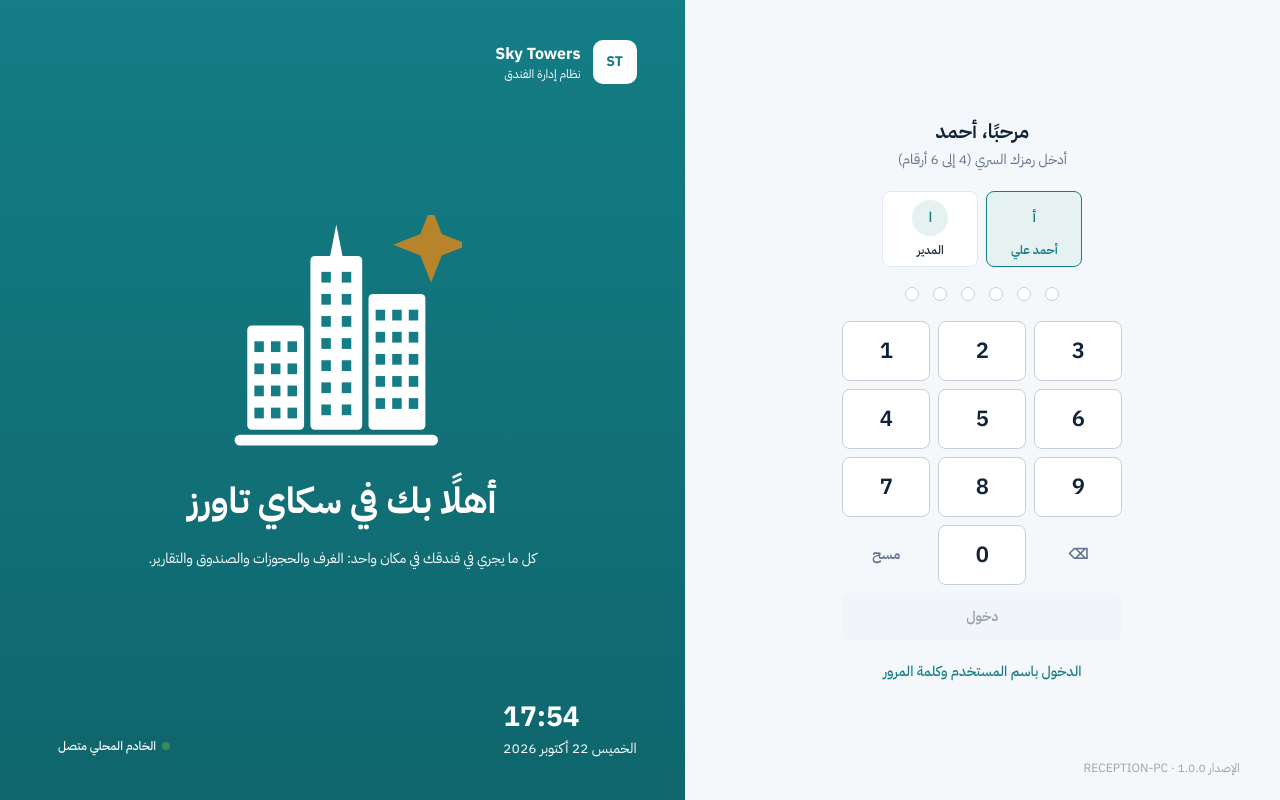
Test: locked account disables the keypad and counts down
Expected: the heading "مرحبًا، أحمد" is shown, [936, 117, 1029, 145]
Click the button "1" at (886, 351), box [842, 321, 930, 381]
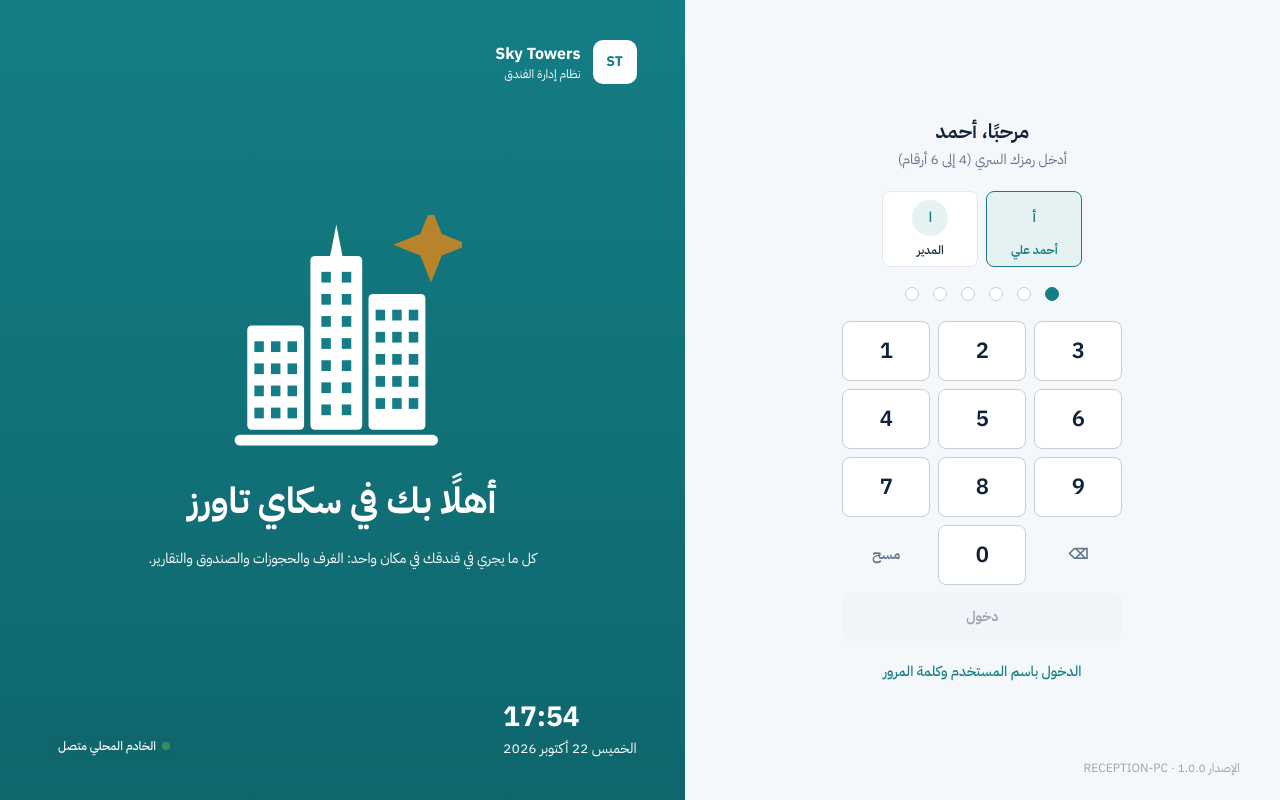
Click the button "1" at (886, 351), box [842, 321, 930, 381]
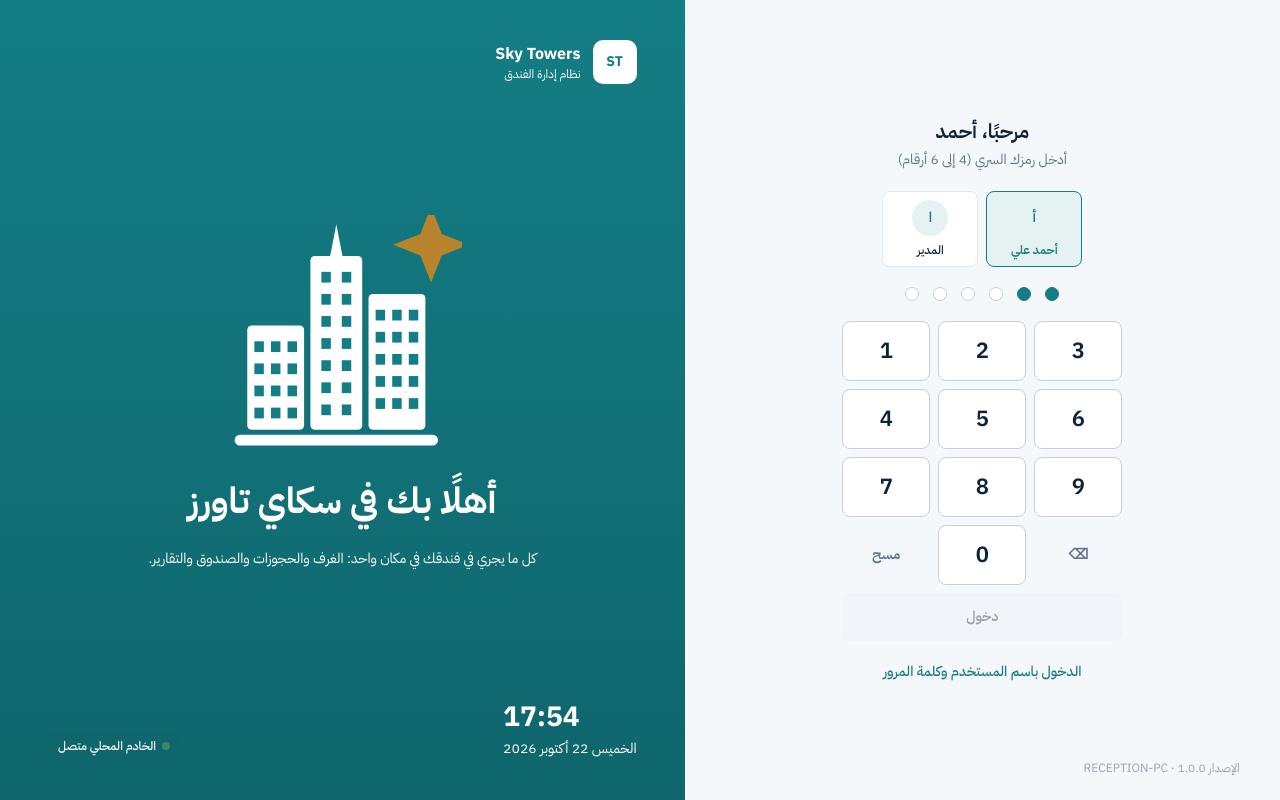
Click the button "1" at (886, 351), box [842, 321, 930, 381]
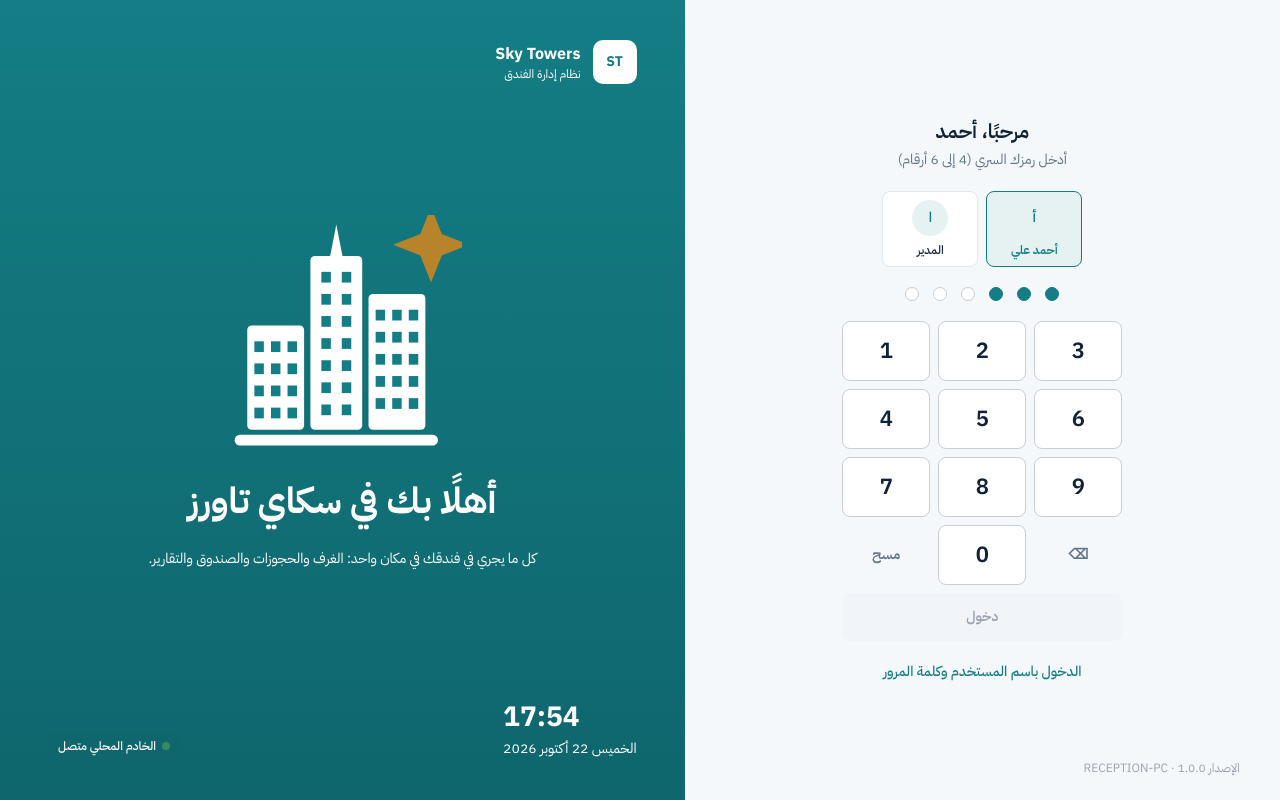
Click the button "1" at (886, 351), box [842, 321, 930, 381]
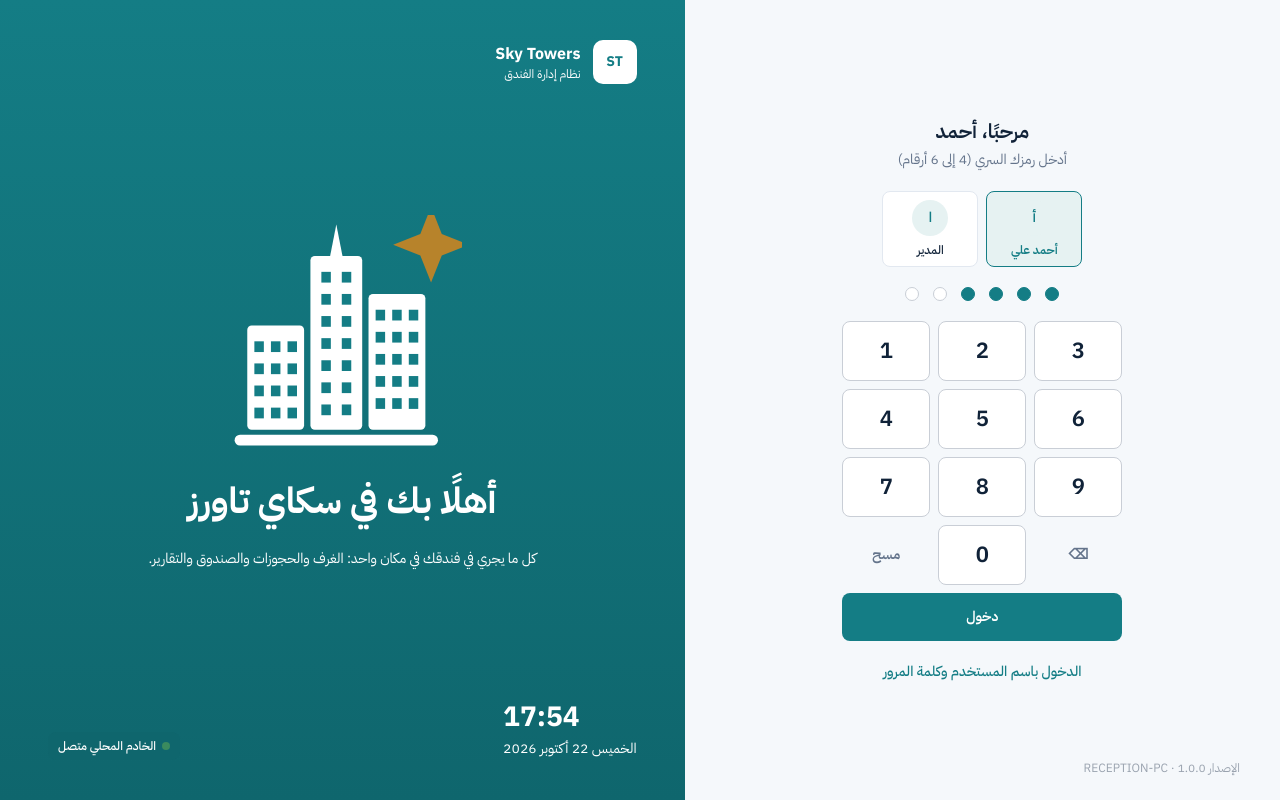
Click the button "1" at (886, 351), box [842, 321, 930, 381]
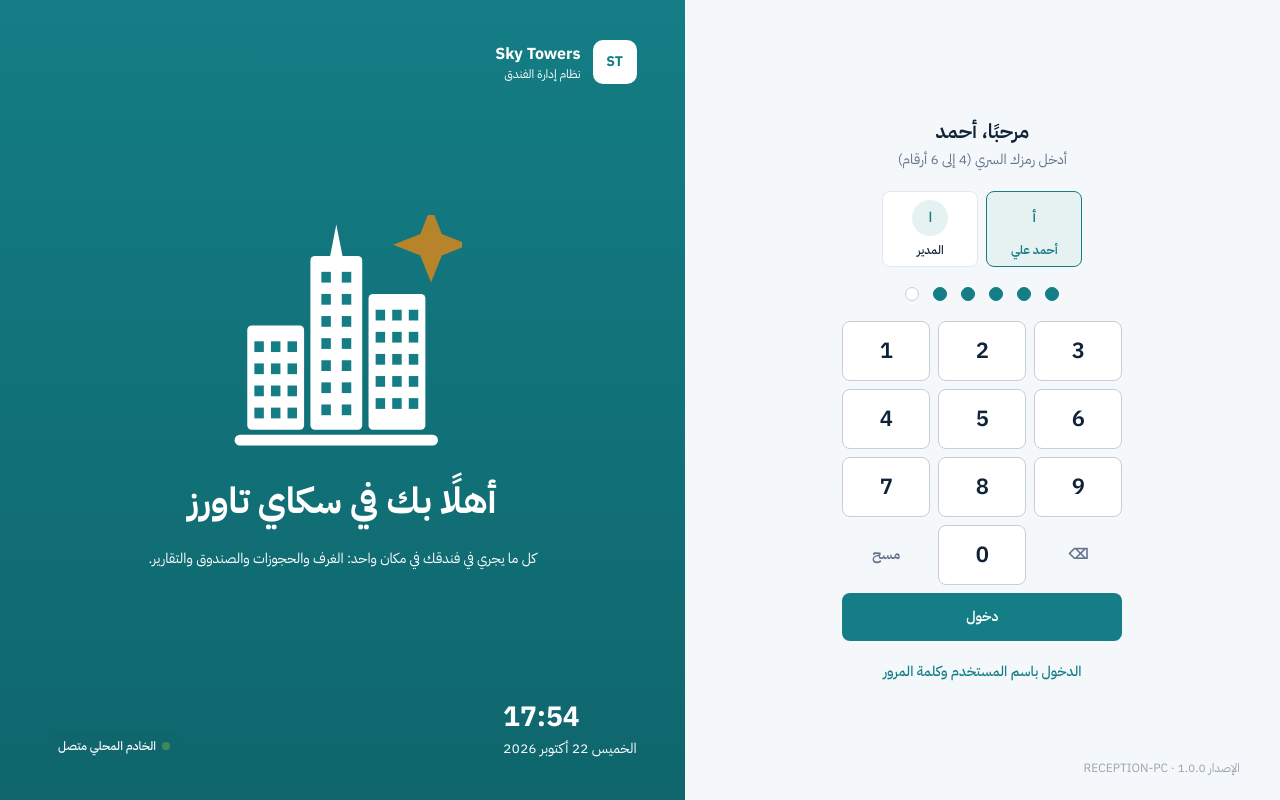
Click the button "1" at (886, 351), box [842, 321, 930, 381]
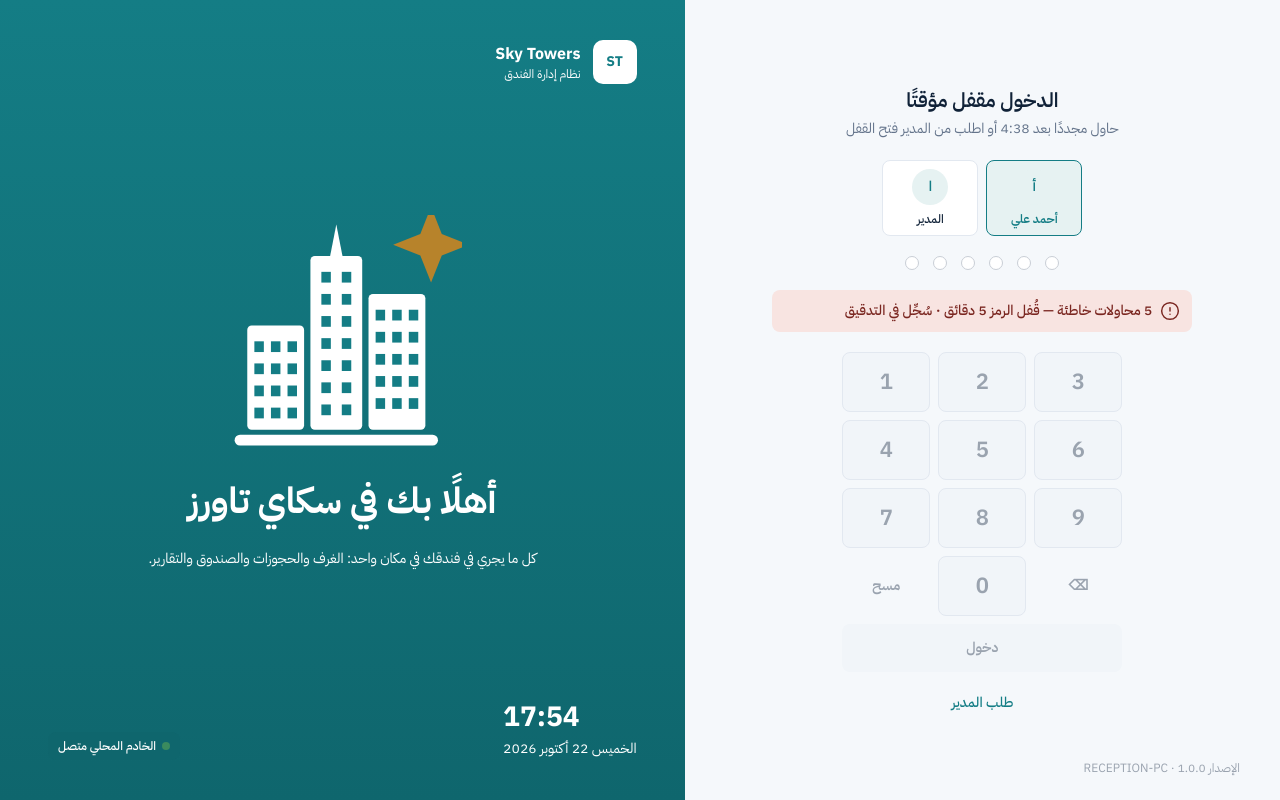
Expected: the heading "الدخول مقفل مؤقتًا" is shown, [906, 86, 1058, 114]
Expected: the text "حاول مجددًا بعد 4:38 أو اطلب من المدير فتح القفل" is shown, [846, 118, 1119, 140]
Expected: the button "5" is disabled, [938, 420, 1026, 480]
